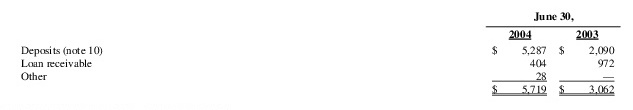table: (0, 0, 633, 110)
